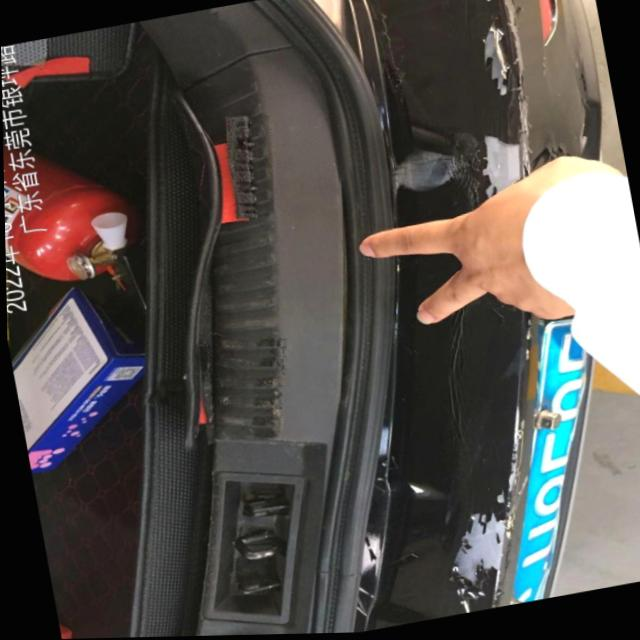Paint-Crack: (450, 493, 507, 613)
